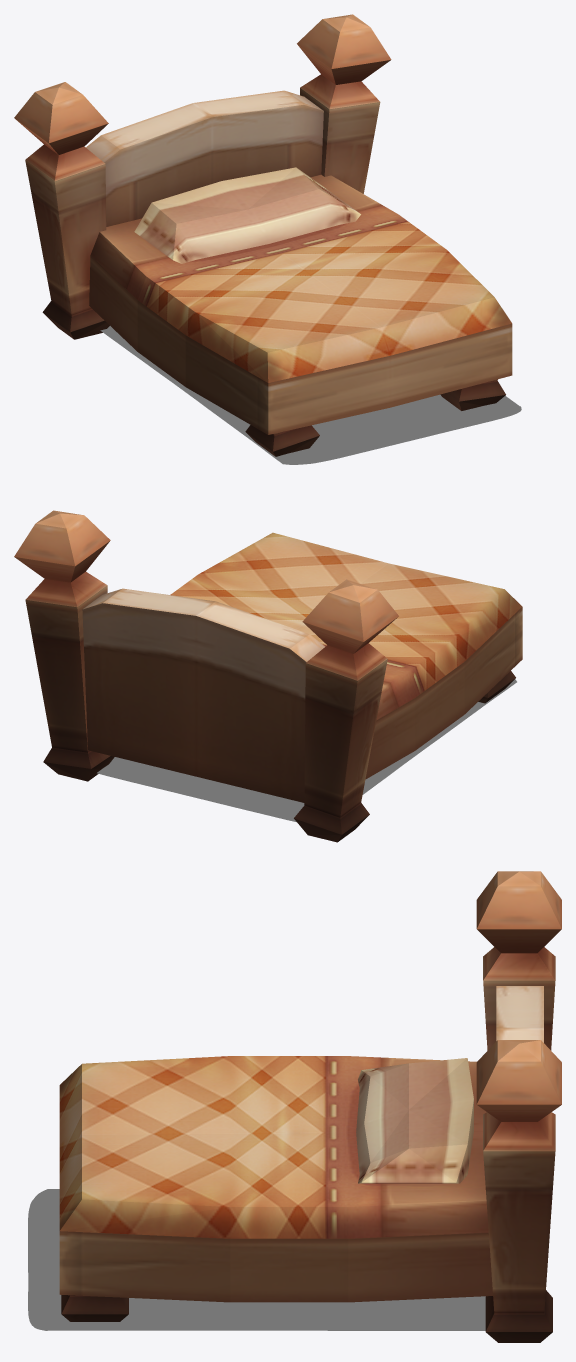
Rendered from FT_Basic_bed01.FBX.
The picture shows the model from 3 angles, top to bottom: view 1: azimuth 30°, elevation 25°; view 2: azimuth 150°, elevation 25°; view 3: azimuth 270°, elevation 25°; orthographic projection. The views are drawn at different scales.
Visible parts, largest first — view 1: FT_Basic_bed01, FT_Basic_bed01_shadow; view 2: FT_Basic_bed01, FT_Basic_bed01_shadow; view 3: FT_Basic_bed01, FT_Basic_bed01_shadow.
Part boxes in pixels (left/top/right/bottom): FT_Basic_bed01: left=14, top=14, right=512, bottom=456; FT_Basic_bed01_shadow: left=100, top=326, right=521, bottom=464; FT_Basic_bed01: left=14, top=510, right=522, bottom=842; FT_Basic_bed01_shadow: left=97, top=679, right=516, bottom=822; FT_Basic_bed01: left=59, top=871, right=561, bottom=1342; FT_Basic_bed01_shadow: left=28, top=1189, right=485, bottom=1330.
Bounding box in the file's own units: 1.7 × 1.18 × 1.93.
